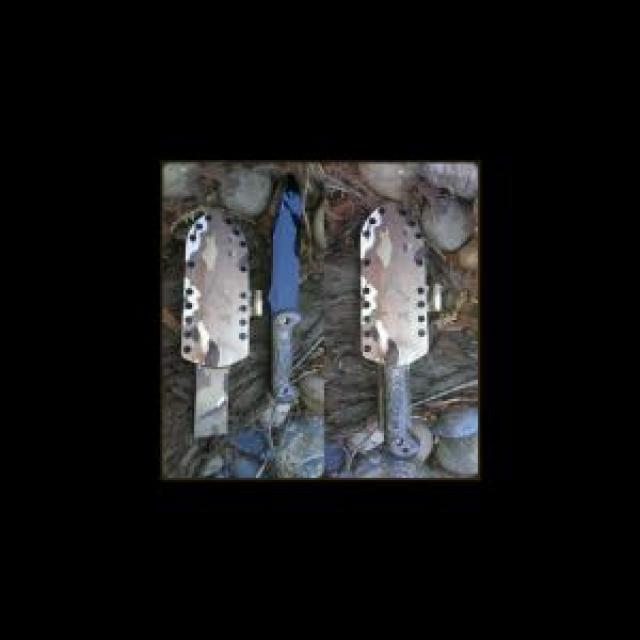knife: (352, 201, 432, 467), (173, 207, 248, 443), (271, 181, 304, 414)
